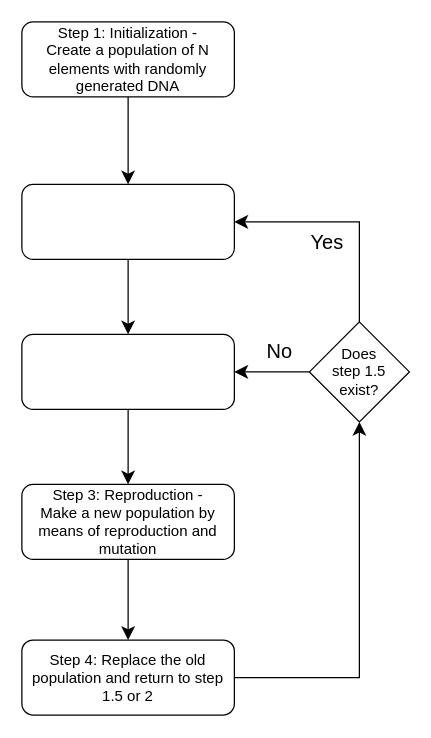
This 431x738 diagram has some shape labels left out. Here are the shapes that lost their labels. From the top down, the centre of each, then its label:
[127,221]: Step 1.5 (optional): Simulaton - Simulate the elements for N amounts of frames.
[127,371]: Step 2: Selection - Evaluate each element's fitness and normalize it.
